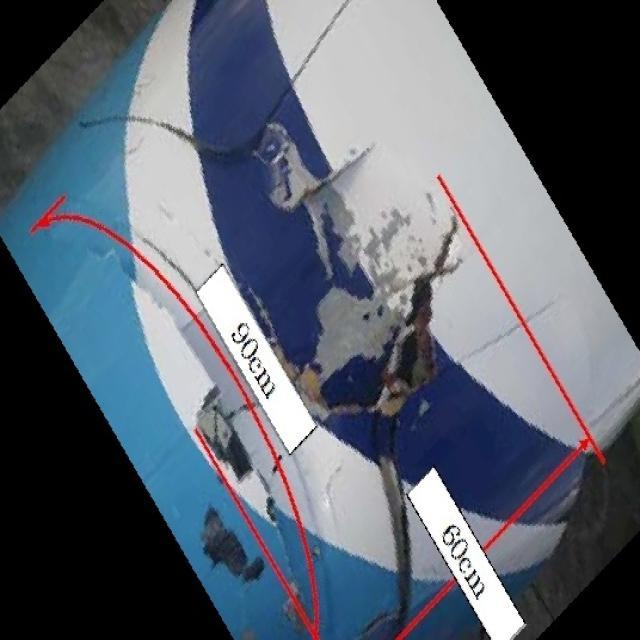crack: (324, 208, 462, 640), (263, 138, 383, 223)
